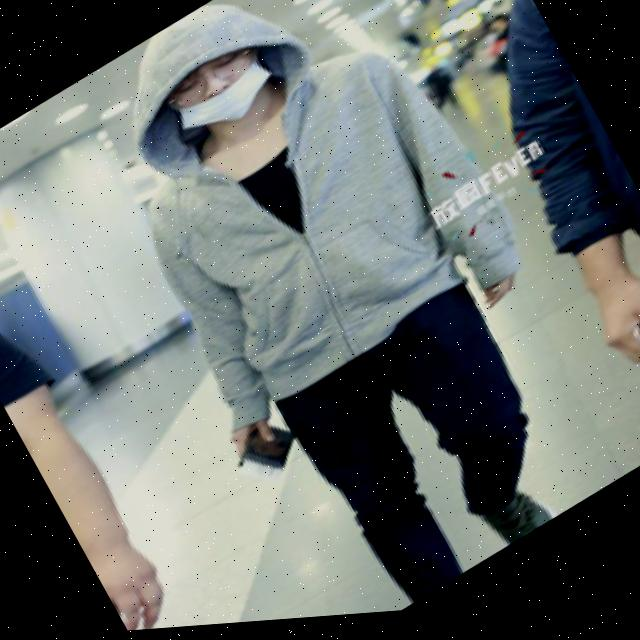Mask: (156, 44, 282, 155)
